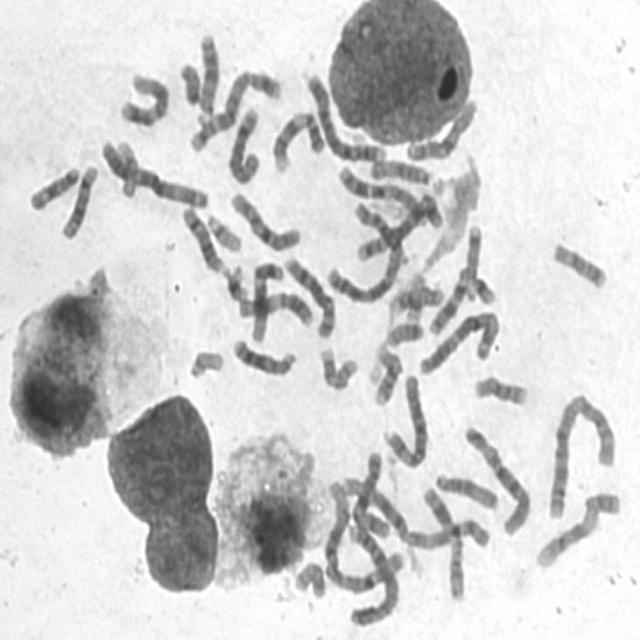A1: (332, 471, 494, 553), (321, 474, 404, 600)
A2: (543, 386, 618, 522), (322, 198, 406, 306)
A3: (96, 135, 211, 210), (413, 305, 503, 378)
B4: (300, 66, 388, 166), (341, 515, 402, 630)
B5: (186, 62, 284, 154), (355, 193, 443, 264)
C10: (402, 93, 480, 163), (226, 186, 304, 253)
C11: (418, 480, 468, 603), (233, 285, 316, 329)
C12: (247, 256, 287, 344), (116, 67, 172, 128)
C6: (460, 419, 532, 538), (380, 368, 431, 470)
C7: (426, 220, 484, 338), (335, 160, 428, 226)
C8: (279, 250, 338, 340), (224, 101, 264, 186)
C9: (532, 486, 624, 570), (268, 103, 327, 175)
D13: (228, 332, 298, 379), (194, 26, 222, 122)
D14: (57, 159, 101, 242), (179, 201, 225, 276)
D15: (431, 467, 502, 513), (366, 152, 436, 186)
E16: (370, 342, 406, 408), (470, 370, 531, 408)
E17: (316, 340, 360, 394), (386, 280, 446, 318)
E18: (548, 235, 610, 292), (26, 160, 81, 213)
F19: (113, 134, 141, 200), (404, 272, 429, 324)
F20: (289, 555, 327, 600), (385, 321, 425, 352)
G21: (461, 269, 499, 307), (222, 259, 250, 304)
G22: (202, 208, 244, 254), (185, 344, 226, 381)
X: (350, 450, 390, 542)
Y: (175, 56, 203, 108)
